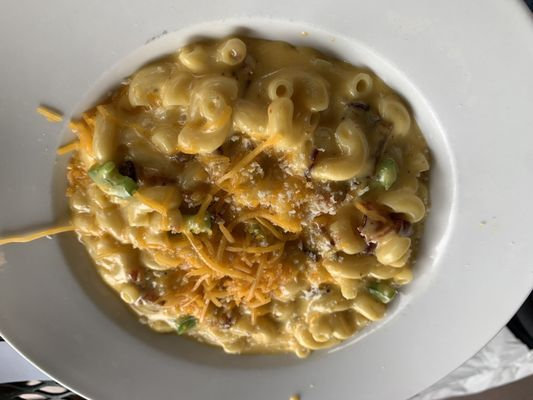sushi: (33, 7, 461, 364)
